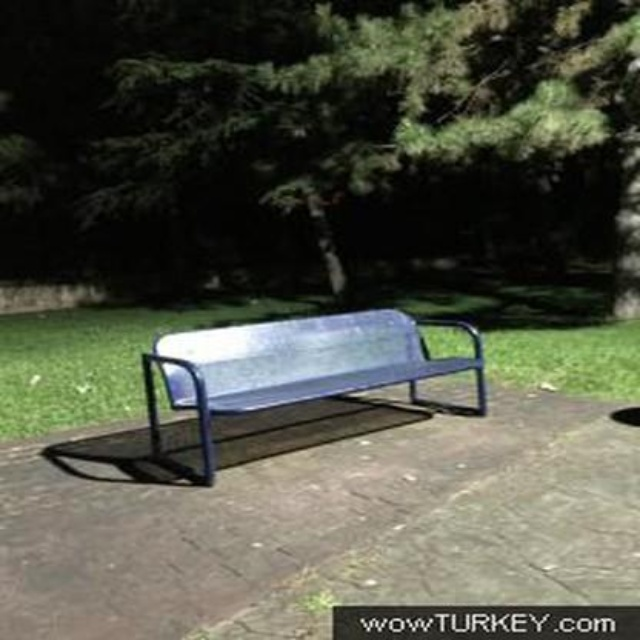obstacle: (112, 314, 508, 469)
